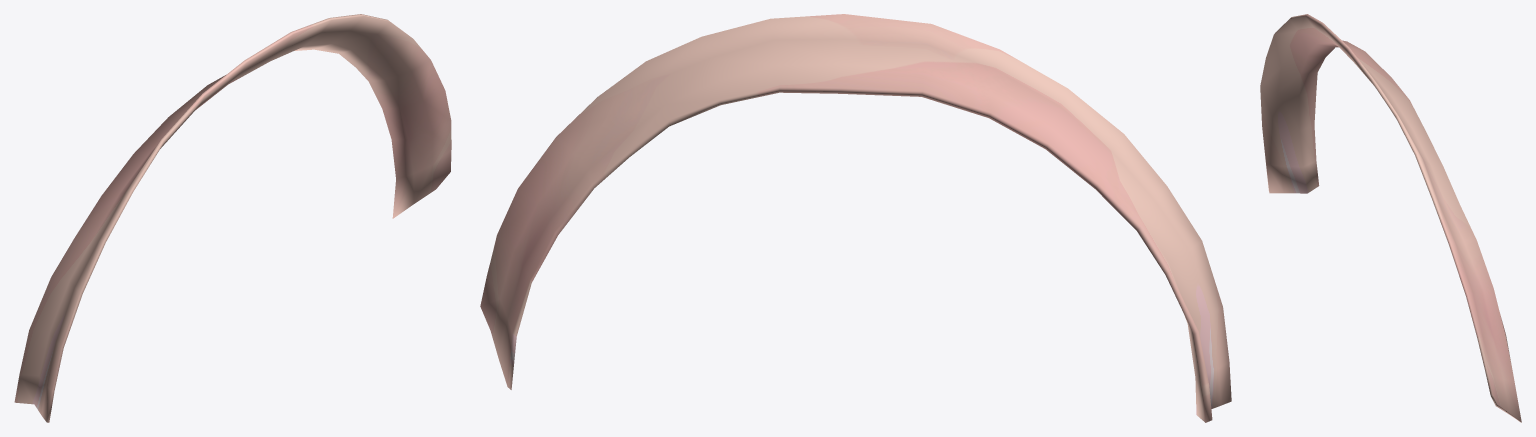
File: JOJO_eyelash_L.FBX
The picture shows the model from 3 angles, left to right: view 1: azimuth 30°, elevation 25°; view 2: azimuth 150°, elevation 25°; view 3: azimuth 270°, elevation 25°; orthographic projection. The views are drawn at different scales.
Parts seen in each view (by area): view 1: JOJO_eyelash_L; view 2: JOJO_eyelash_L; view 3: JOJO_eyelash_L.
Boxes of the visible parts, box(x1,y1,x2,y2) form: JOJO_eyelash_L: box(14, 14, 451, 422); JOJO_eyelash_L: box(480, 14, 1231, 422); JOJO_eyelash_L: box(1260, 14, 1521, 422).
Size of the model in its own units: 8.34 by 4.53 by 3.75.
